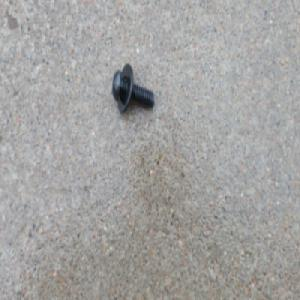BoltWasher: (111, 66, 154, 116)
